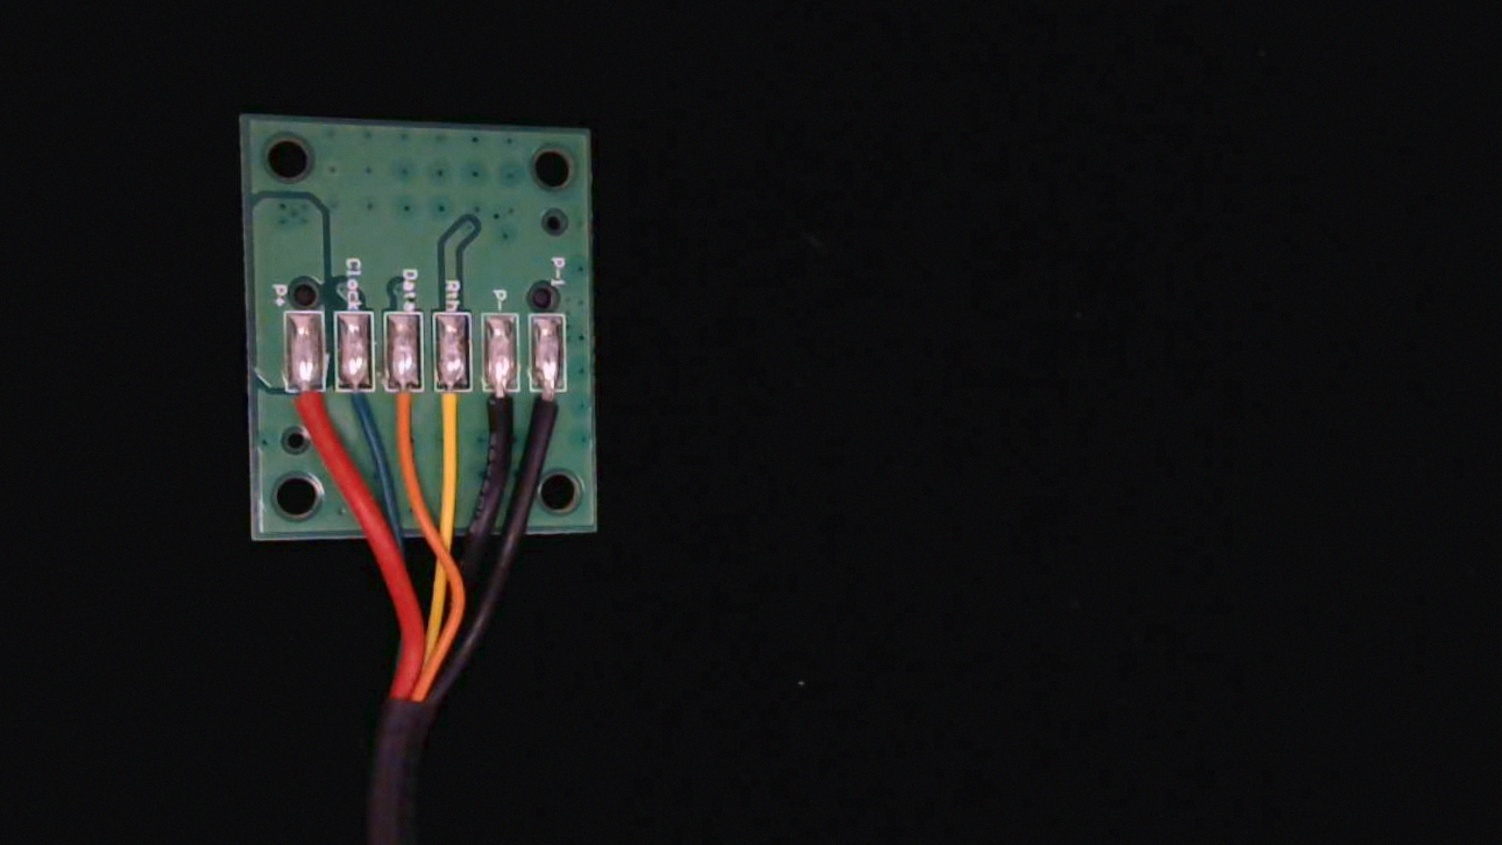Black: (478, 367, 521, 458)
Black1: (529, 370, 570, 453)
Green: (332, 365, 374, 452)
Orange: (386, 365, 426, 455)
Red: (284, 362, 327, 449)
Yellow: (430, 366, 472, 457)
